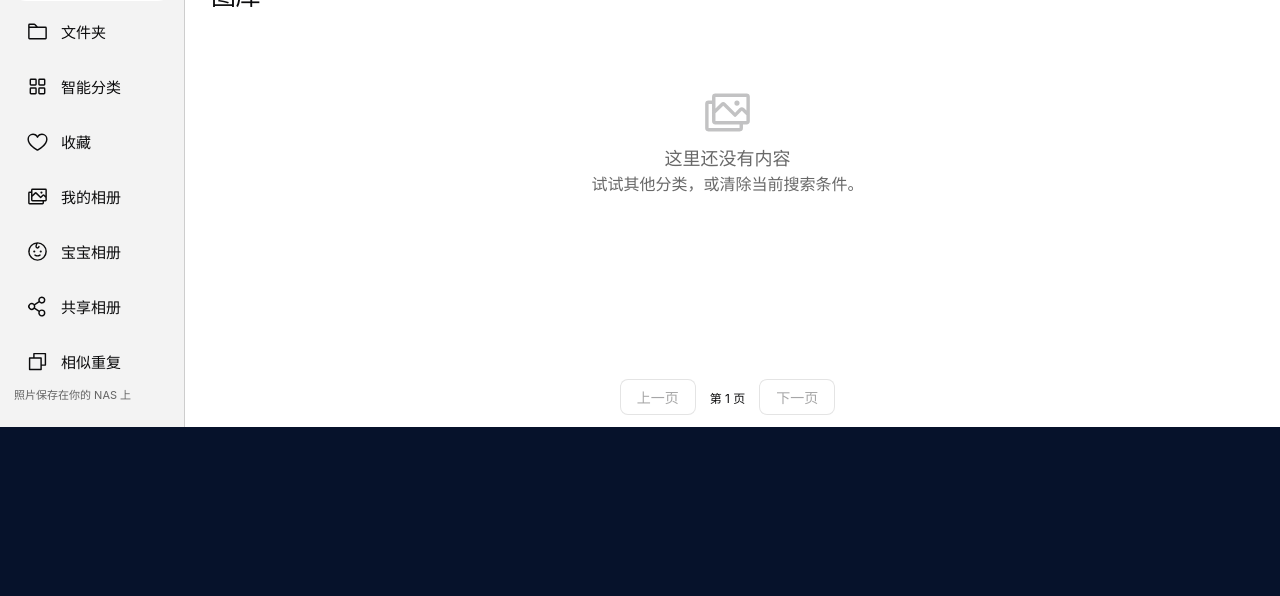
Test: shows the full official album collection without offering a repeated server page
Click the button "我的相册" at coordinates (92, 196), box [14,172,170,221]
(page scrolled)
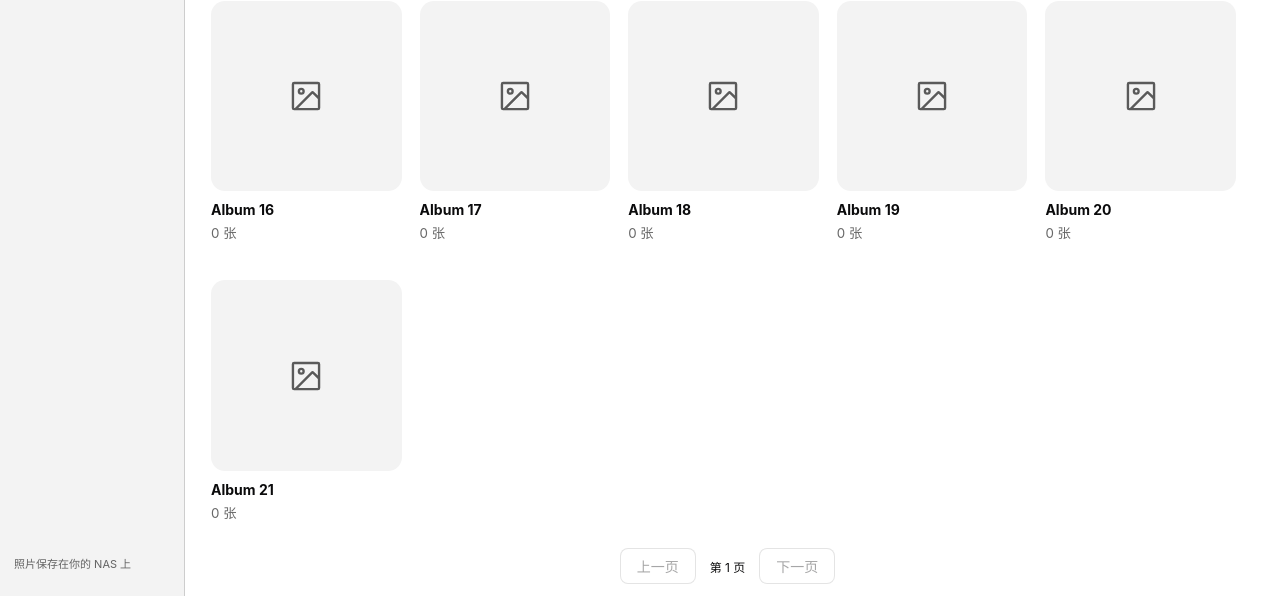
Check: the text "Album 21" is shown, box [211,481,274,498]
